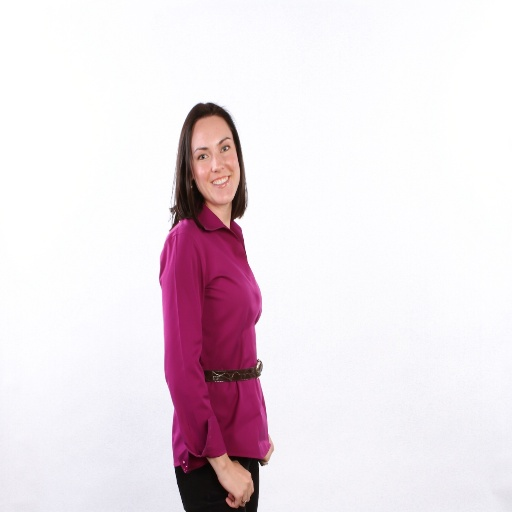hand: (225, 458, 256, 508), (259, 433, 274, 466)
